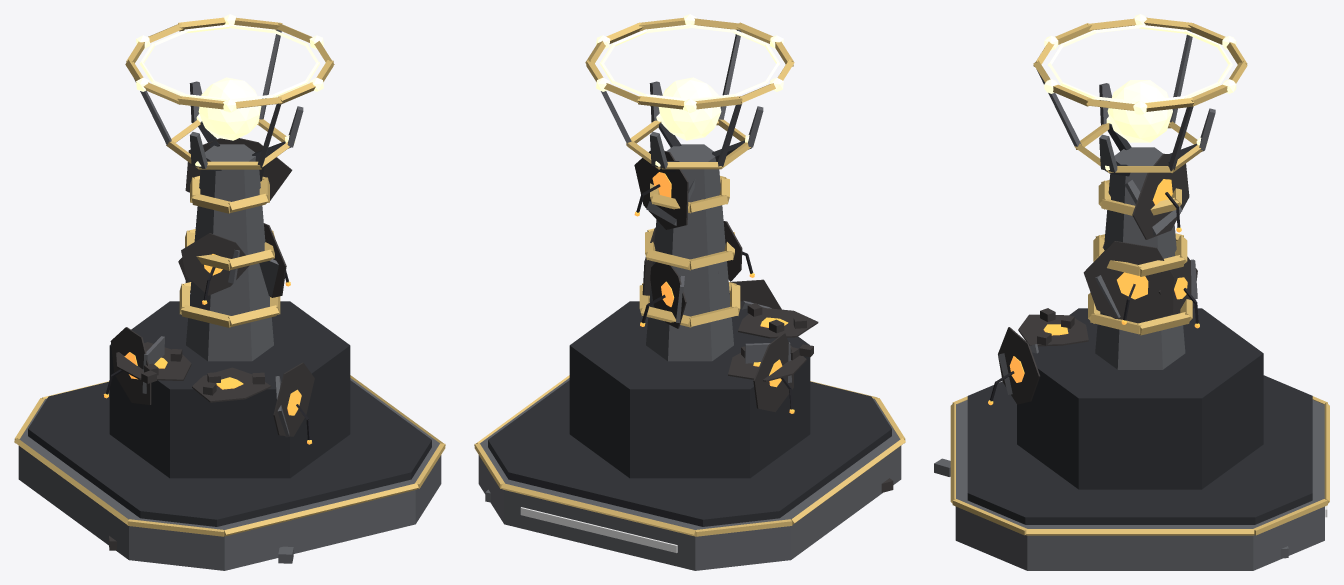
File: Aegis_ShieldProjector.fbx
The picture shows the model from 3 angles, left to right: view 1: azimuth 30°, elevation 25°; view 2: azimuth 150°, elevation 25°; view 3: azimuth 270°, elevation 25°; orthographic projection. The views are drawn at different scales.
Visible parts, largest first — view 1: SP_Base, SP_PlinthTop, SP_Plinth, SP_Column, SP2_HaloRing, SP_Emitter, Aegis_ShieldProjector_DmgScorch5, Aegis_ShieldProjector_DmgScorch4, Aegis_ShieldProjector_DmgScorch2, SP2_HaloGlow, SP_Coil0, SP_PlinthTrim0 (+9 smaller); view 2: SP_Base, SP_PlinthTop, SP_Plinth, SP_Column, SP2_HaloRing, SP_Emitter, Aegis_ShieldProjector_DmgScorch3, Aegis_ShieldProjector_DmgScorch2, SP2_HaloGlow, SP_Coil0, SP_CradleRing, SP_FrontStrip (+10 smaller); view 3: SP_Base, SP_PlinthTop, SP_Plinth, SP_Column, Aegis_ShieldProjector_DmgScorch1, SP2_HaloRing, SP_Emitter, Aegis_ShieldProjector_DmgScorch3, SP2_HaloGlow, Aegis_ShieldProjector_DmgScorch4, SP_PlinthTrim2, SP_Coil0 (+12 smaller).
Boxes of the visible parts, box(x1,y1,x2,y2) form: SP_Base: box(109, 301, 350, 478); SP_PlinthTop: box(28, 380, 431, 526); SP_Plinth: box(18, 378, 441, 570); SP_Column: box(186, 144, 273, 361); SP2_HaloRing: box(125, 17, 334, 109); SP_Emitter: box(198, 77, 261, 140); Aegis_ShieldProjector_DmgScorch5: box(181, 233, 249, 295); Aegis_ShieldProjector_DmgScorch4: box(273, 362, 314, 436); Aegis_ShieldProjector_DmgScorch2: box(110, 327, 151, 404); SP2_HaloGlow: box(139, 24, 320, 101); SP_Coil0: box(179, 282, 280, 327); SP_PlinthTrim0: box(224, 483, 418, 536); SP_Base: box(569, 301, 810, 478); SP_PlinthTop: box(488, 380, 891, 526); SP_Plinth: box(478, 378, 901, 570); SP_Column: box(646, 144, 733, 361); SP2_HaloRing: box(585, 17, 794, 109); SP_Emitter: box(658, 77, 721, 140); Aegis_ShieldProjector_DmgScorch3: box(634, 151, 688, 229); Aegis_ShieldProjector_DmgScorch2: box(753, 333, 793, 412); SP2_HaloGlow: box(599, 24, 779, 101); SP_Coil0: box(639, 282, 740, 327); SP_CradleRing: box(626, 119, 750, 169); SP_FrontStrip: box(520, 507, 677, 552); SP_Base: box(1017, 308, 1263, 489); SP_PlinthTop: box(967, 375, 1312, 524); SP_Plinth: box(955, 400, 1324, 570); SP_Column: box(1095, 147, 1185, 369); Aegis_ShieldProjector_DmgScorch1: box(1083, 241, 1173, 323); SP2_HaloRing: box(1033, 17, 1247, 111); SP_Emitter: box(1107, 80, 1172, 142); Aegis_ShieldProjector_DmgScorch3: box(1132, 153, 1189, 239); SP2_HaloGlow: box(1048, 24, 1232, 103); Aegis_ShieldProjector_DmgScorch4: box(998, 327, 1040, 404); SP_PlinthTrim2: box(1026, 529, 1254, 535); SP_Coil0: box(1088, 292, 1192, 335).
Size of the model in its own units: 1.86 by 2.34 by 1.93.
